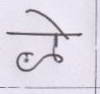e_matra: (28, 9, 67, 33)
